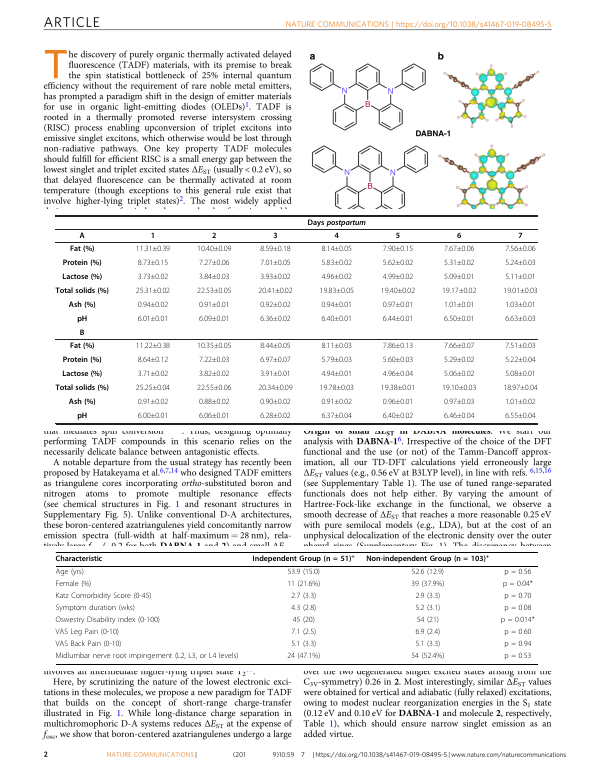borderless: (55, 214, 537, 423), (54, 551, 538, 664)
cell: (55, 652, 239, 661), (365, 553, 490, 564), (252, 553, 356, 564), (55, 616, 161, 626), (55, 592, 152, 602), (55, 604, 136, 614), (55, 640, 122, 649), (55, 628, 120, 637), (55, 286, 110, 296), (55, 383, 110, 393), (307, 218, 367, 227), (55, 555, 103, 564), (61, 272, 103, 282), (61, 369, 103, 379), (62, 258, 102, 268), (62, 355, 102, 365), (55, 580, 92, 590), (500, 616, 536, 626), (286, 568, 321, 578), (286, 580, 321, 590), (410, 580, 445, 590), (411, 568, 445, 578), (502, 580, 534, 590), (286, 652, 321, 661), (410, 652, 445, 661), (55, 568, 85, 578), (503, 568, 532, 578), (503, 592, 532, 602), (503, 604, 532, 614), (68, 300, 96, 310), (68, 397, 96, 407), (290, 592, 317, 602), (414, 592, 441, 602), (290, 604, 317, 614), (414, 604, 441, 614), (503, 628, 532, 637), (503, 640, 532, 649), (503, 652, 532, 661), (69, 244, 95, 254), (69, 341, 95, 351), (135, 245, 171, 252), (196, 245, 232, 252), (135, 287, 171, 294), (196, 287, 232, 294), (257, 287, 293, 294), (319, 287, 355, 294), (380, 287, 416, 294), (441, 287, 477, 294), (502, 287, 538, 294), (135, 342, 171, 349), (196, 342, 232, 349), (135, 384, 171, 391), (196, 384, 232, 391), (257, 384, 293, 391), (319, 384, 355, 391), (380, 384, 416, 391), (441, 384, 477, 391), (502, 384, 538, 391), (290, 628, 317, 637), (414, 628, 441, 637), (290, 640, 317, 649), (414, 640, 441, 649), (292, 616, 316, 626), (416, 616, 440, 626), (259, 245, 292, 252), (320, 245, 353, 252), (504, 245, 537, 252), (259, 259, 292, 266), (320, 259, 353, 266), (504, 259, 537, 266), (259, 273, 292, 280), (320, 273, 353, 280), (504, 273, 537, 280), (259, 301, 292, 308), (320, 301, 353, 308), (504, 301, 537, 308), (259, 315, 292, 322), (320, 315, 353, 322), (504, 315, 537, 322), (259, 342, 292, 349), (320, 342, 353, 349), (504, 342, 537, 349), (259, 356, 292, 363), (320, 356, 353, 363), (504, 356, 537, 363), (259, 370, 292, 377), (320, 370, 353, 377), (504, 370, 537, 377), (259, 398, 292, 405), (320, 398, 353, 405), (504, 398, 537, 405), (259, 412, 292, 419), (320, 412, 353, 419), (504, 412, 537, 419), (382, 245, 414, 252), (443, 245, 475, 252), (137, 259, 169, 266), (198, 259, 230, 266), (382, 259, 414, 266), (443, 259, 475, 266), (137, 273, 169, 280), (198, 273, 230, 280), (382, 273, 414, 280), (443, 273, 475, 280), (137, 301, 169, 308), (198, 301, 230, 308), (382, 301, 414, 308), (443, 301, 475, 308), (137, 315, 169, 322), (198, 315, 230, 322), (382, 315, 414, 322), (443, 315, 475, 322), (382, 342, 414, 349), (443, 342, 475, 349), (137, 356, 169, 363), (198, 356, 230, 363), (382, 356, 414, 363), (443, 356, 475, 363), (137, 370, 169, 377), (198, 370, 230, 377), (382, 370, 414, 377), (443, 370, 475, 377), (137, 398, 169, 405), (198, 398, 230, 405), (382, 398, 414, 405), (443, 398, 475, 405), (137, 412, 169, 419), (198, 412, 230, 419), (382, 412, 414, 419), (443, 412, 475, 419), (76, 314, 88, 324), (76, 411, 88, 421), (79, 231, 86, 241), (333, 231, 340, 241), (150, 231, 156, 241), (211, 231, 217, 241), (272, 231, 278, 241), (395, 231, 401, 241), (456, 231, 462, 241), (517, 231, 523, 241), (79, 328, 85, 338)
